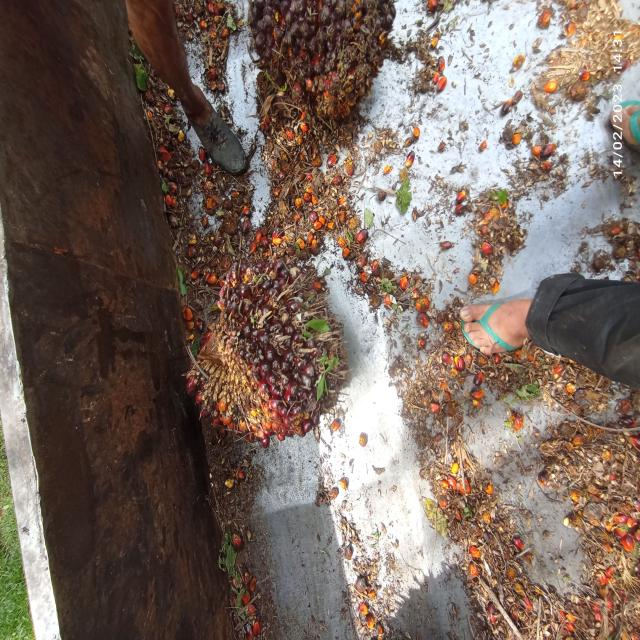fraksi 1: (183, 249, 340, 446)
